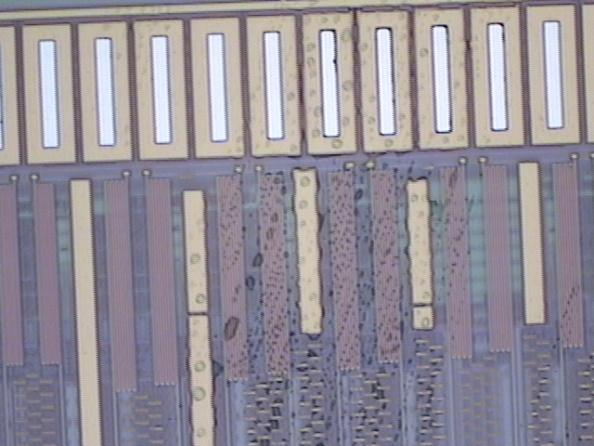PO CONTAMINATION: (102, 1, 587, 446)
